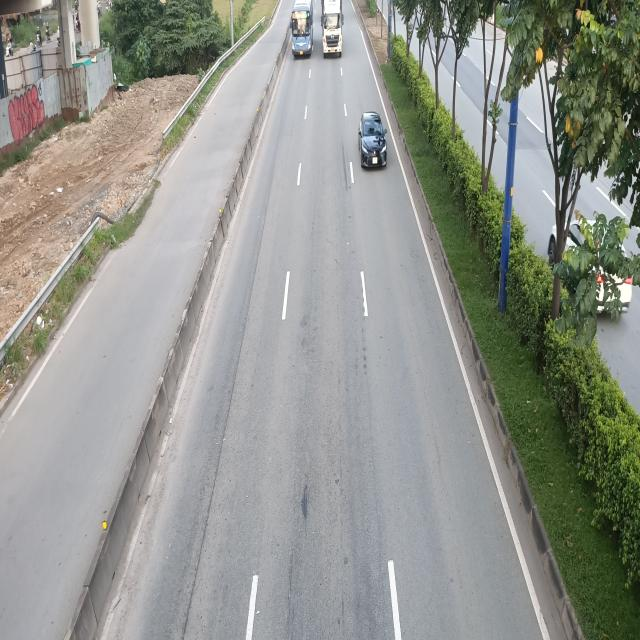car: (357, 111, 387, 169)
coach: (289, 0, 314, 56)
